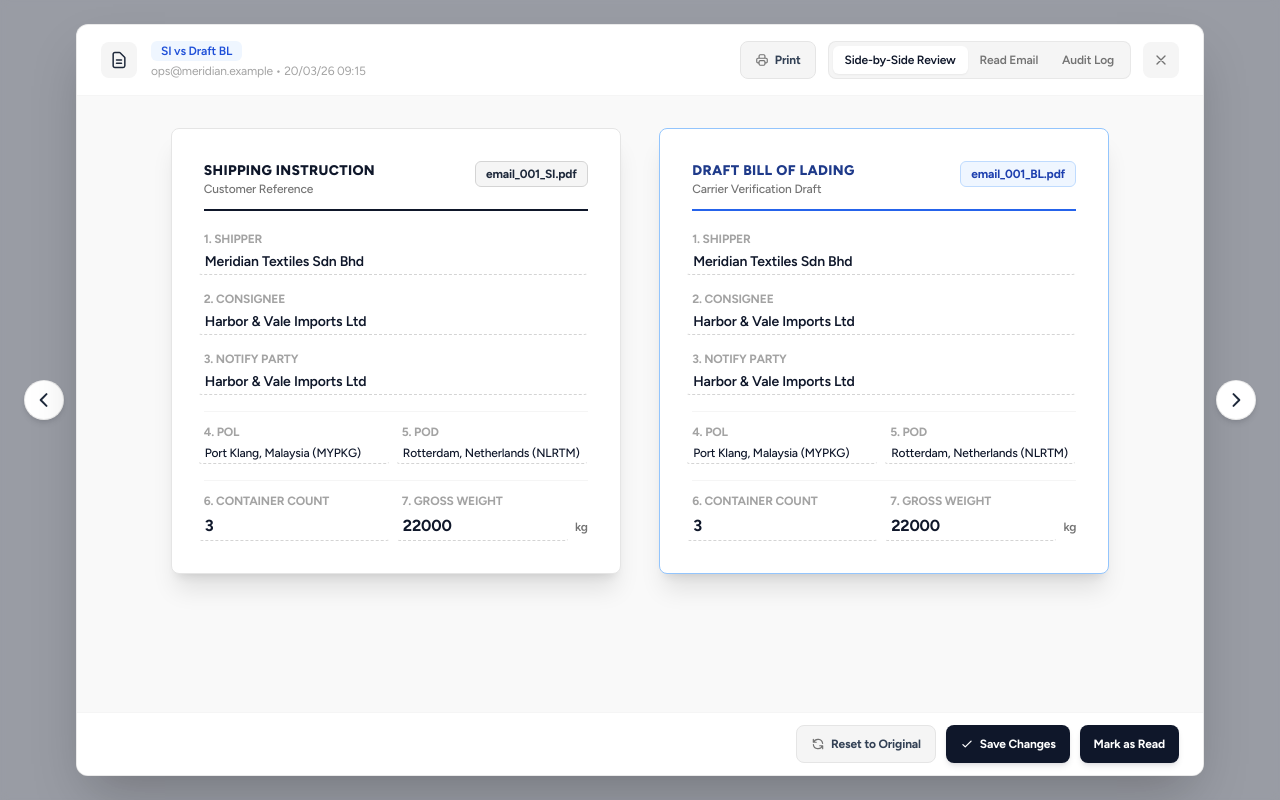
Test case: ReviewModal unsaved changes question › asks before stepping to another email
Step 1. Replace the text in the field labelled "1. Shipper" below "Carrier Verification Draft" with "Typo" → (881, 262), box [686,249,1076,275]
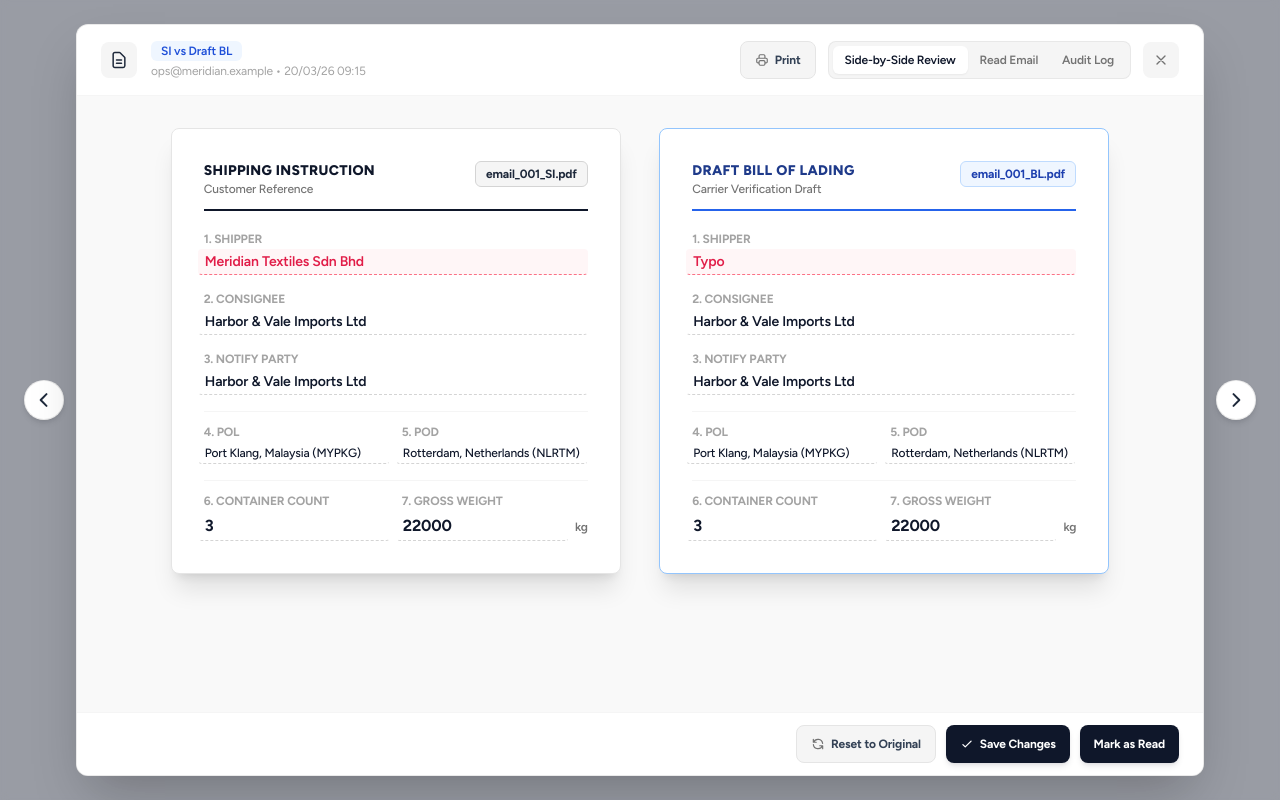
Step 2. Replace the text in the field labelled "1. Shipper" below "Customer Reference" with "Typo" → (393, 262), box [198,249,588,275]
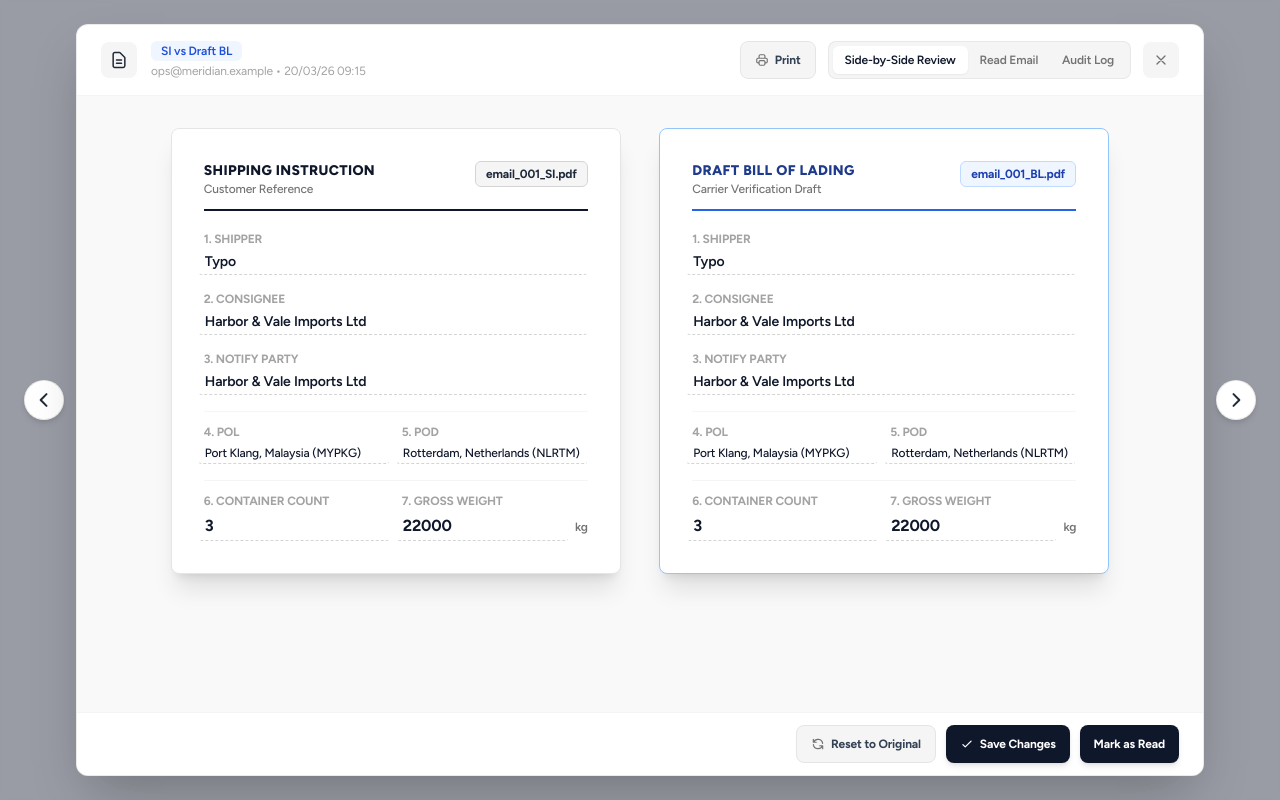
Step 3. Click the button named "Next email" → (1236, 400), box [1216,380,1256,420]
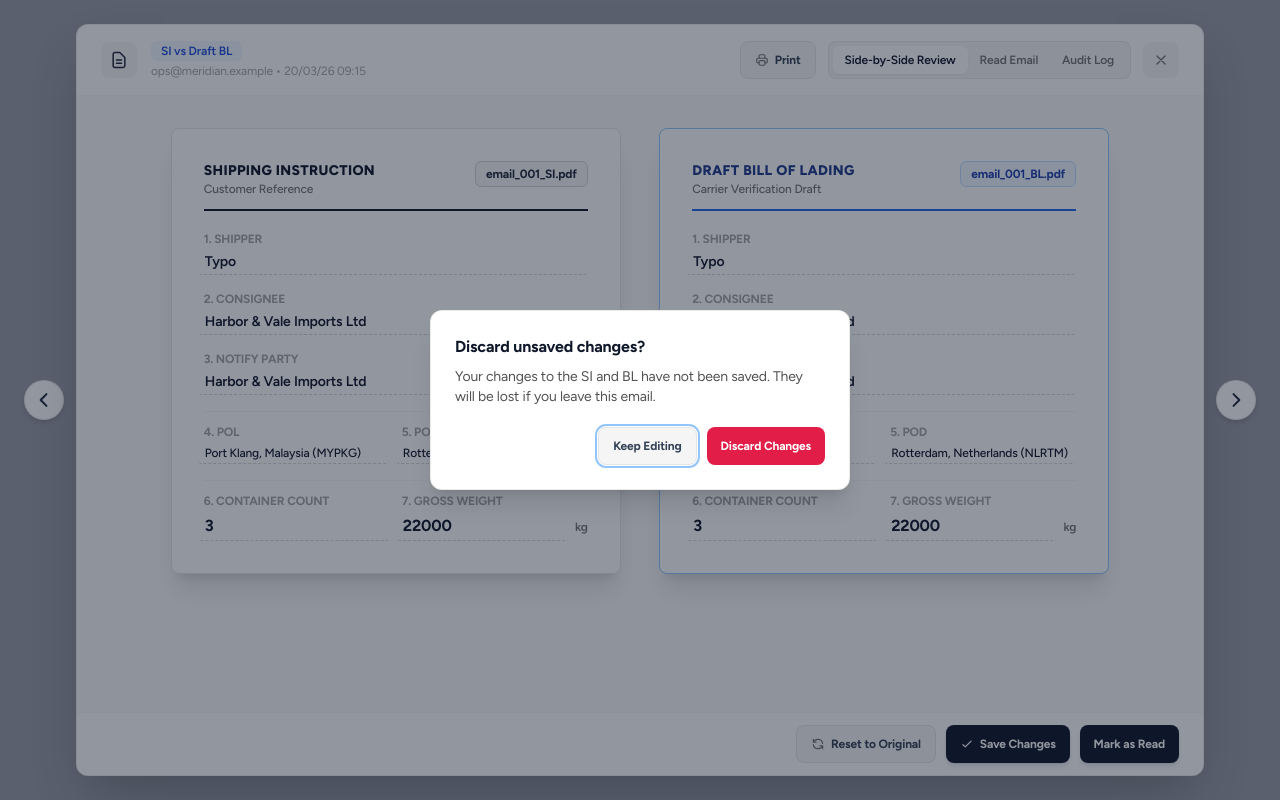
Expected: the dialog "Discard unsaved changes?" shows "Your changes to the SI and BL have not been saved.", [430,310,850,490]
Step 4. Press ArrowLeft
Step 5. Click the button "Discard Changes" → (766, 446), box [707,427,825,465]
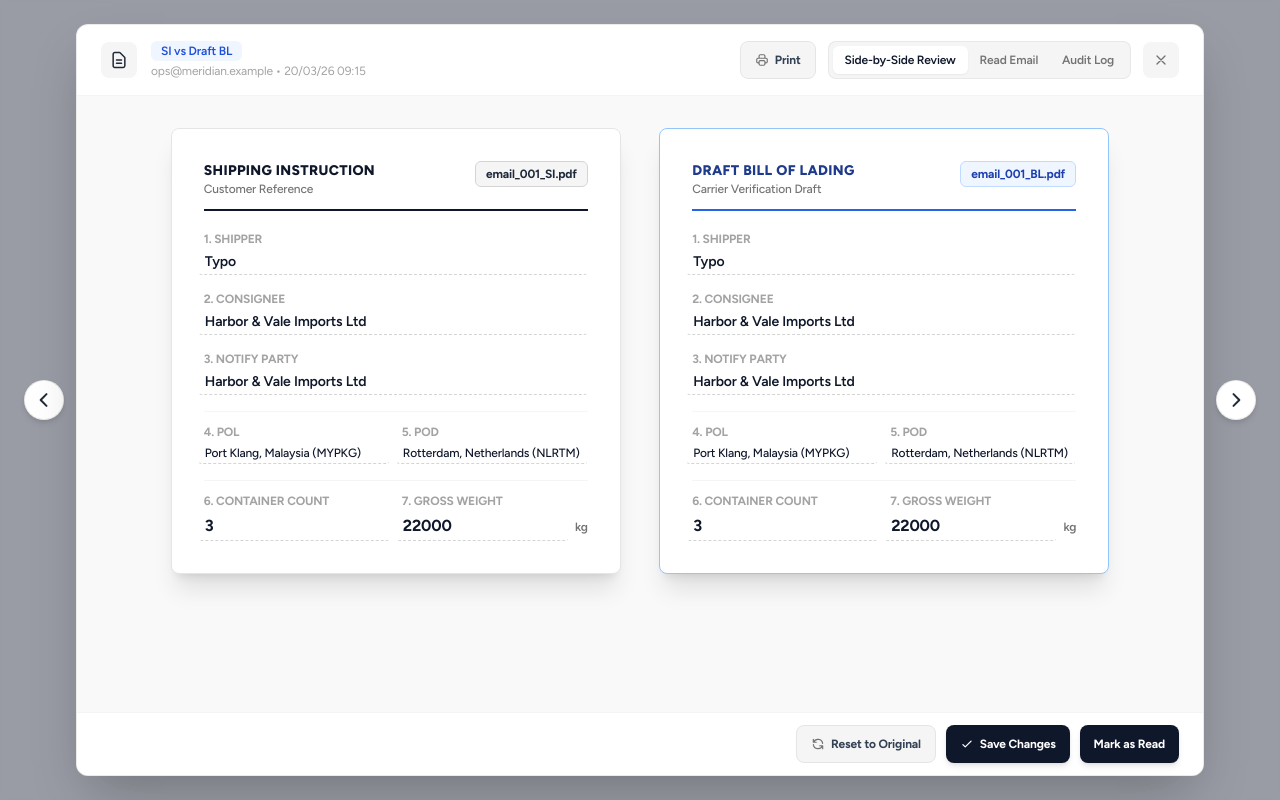
Expected: the heading "Discard unsaved changes?" is gone
